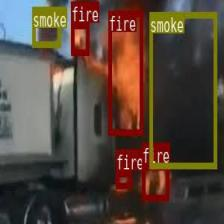fire: (108, 10, 142, 134), (142, 164, 168, 199), (70, 22, 89, 54), (116, 170, 132, 187)
smoke: (149, 11, 216, 167), (32, 5, 60, 46)
